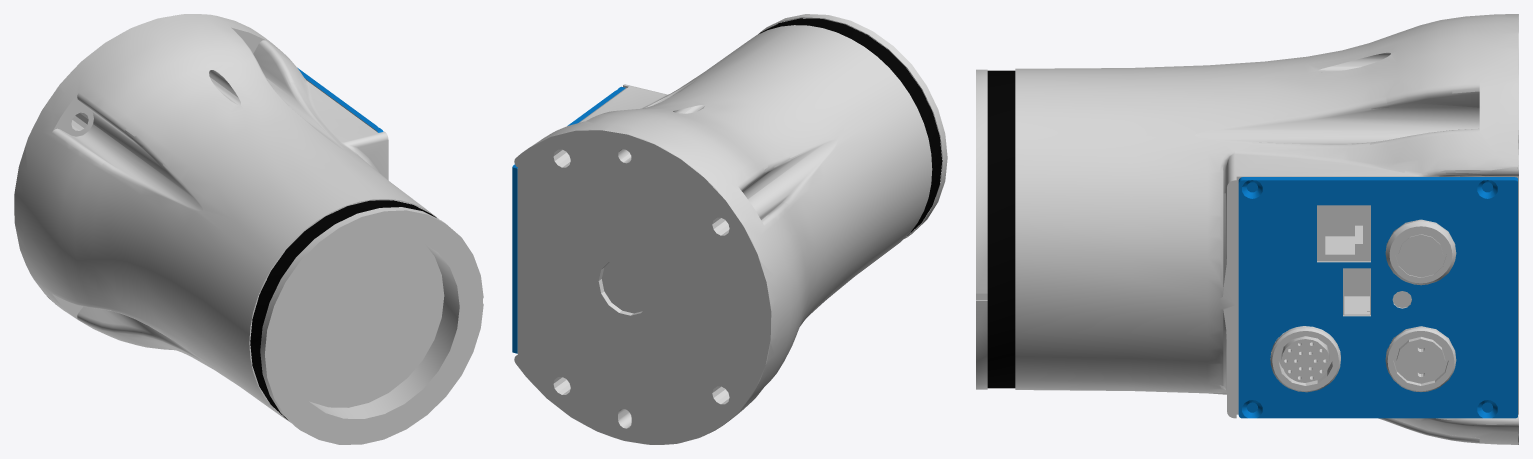
3 views of the same model, side by side, from view 1: azimuth 30°, elevation 25°; view 2: azimuth 150°, elevation 25°; view 3: azimuth 270°, elevation 25° (orthographic). The views are drawn at different scales.
Visible parts, largest first — view 1: mesh-aa71879e-0cd6-414d-af26-ab48f7061937, mesh-c0ddac35-5568-4f77-8e2b-87d5e9a3ae00, mesh-a33ab78b-e67c-42e4-8b48-f0995ec0f779; view 2: mesh-aa71879e-0cd6-414d-af26-ab48f7061937, mesh-c0ddac35-5568-4f77-8e2b-87d5e9a3ae00, mesh-a33ab78b-e67c-42e4-8b48-f0995ec0f779; view 3: mesh-aa71879e-0cd6-414d-af26-ab48f7061937, mesh-a33ab78b-e67c-42e4-8b48-f0995ec0f779, mesh-c0ddac35-5568-4f77-8e2b-87d5e9a3ae00.
Boxes of the visible parts, x1,y1,x2,y2 form: mesh-aa71879e-0cd6-414d-af26-ab48f7061937: (14,14,483,444); mesh-c0ddac35-5568-4f77-8e2b-87d5e9a3ae00: (250,200,436,419); mesh-a33ab78b-e67c-42e4-8b48-f0995ec0f779: (297,67,383,132); mesh-aa71879e-0cd6-414d-af26-ab48f7061937: (514,14,947,444); mesh-c0ddac35-5568-4f77-8e2b-87d5e9a3ae00: (759,18,942,235); mesh-a33ab78b-e67c-42e4-8b48-f0995ec0f779: (512,86,625,353); mesh-aa71879e-0cd6-414d-af26-ab48f7061937: (976,14,1518,444); mesh-a33ab78b-e67c-42e4-8b48-f0995ec0f779: (1238,177,1517,418); mesh-c0ddac35-5568-4f77-8e2b-87d5e9a3ae00: (987,70,1015,388).
Size of the model in its own units: 0.0993 by 0.11 by 0.1385.
